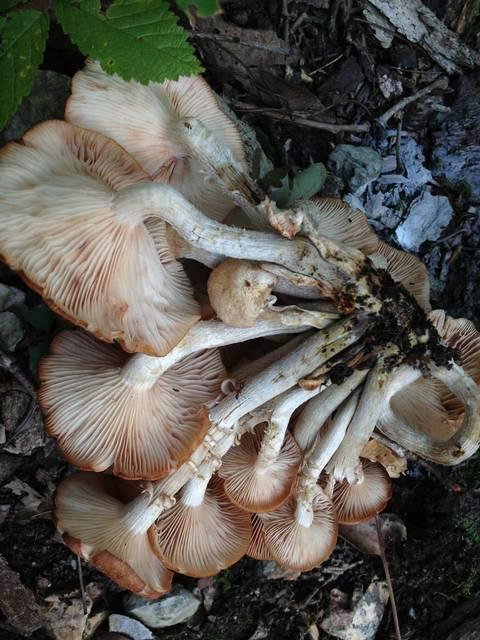Edible Mushroom: (0, 58, 479, 600)
